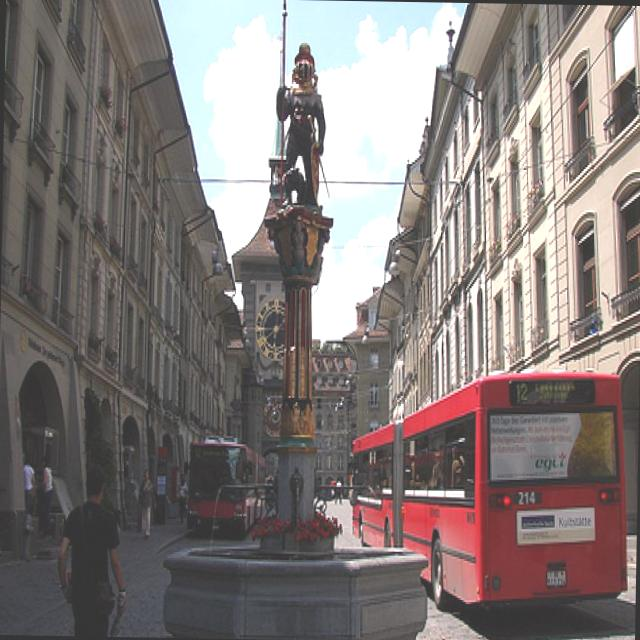Vehicle: (400, 378, 633, 608), (182, 430, 270, 541)
